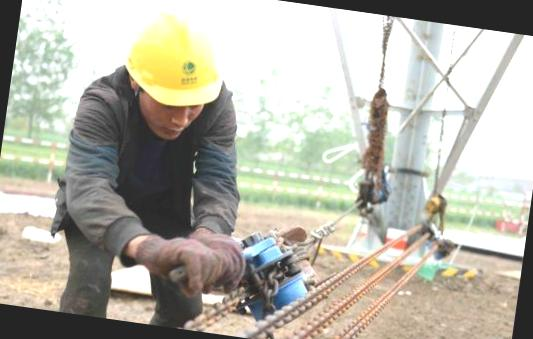helmet: (111, 0, 237, 116)
person: (33, 0, 276, 336)
